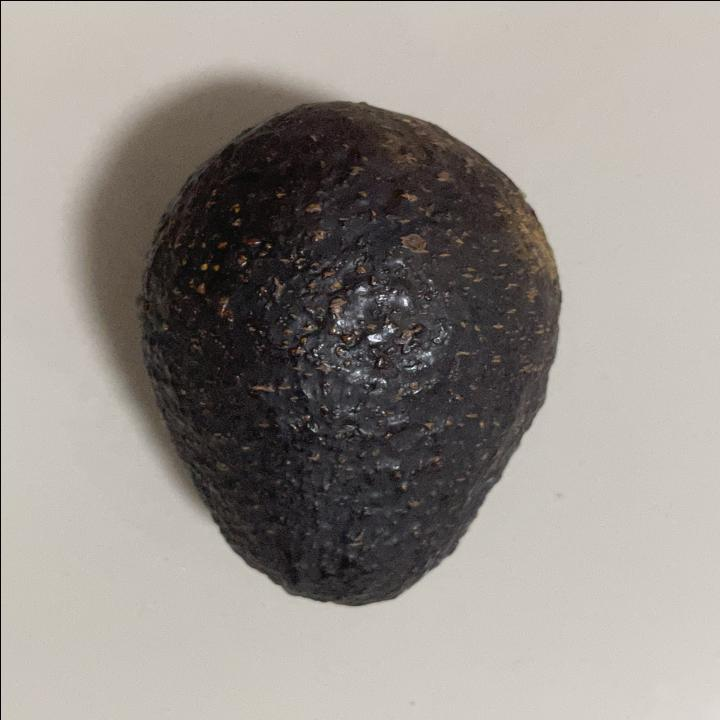Level3: (128, 91, 572, 617)
